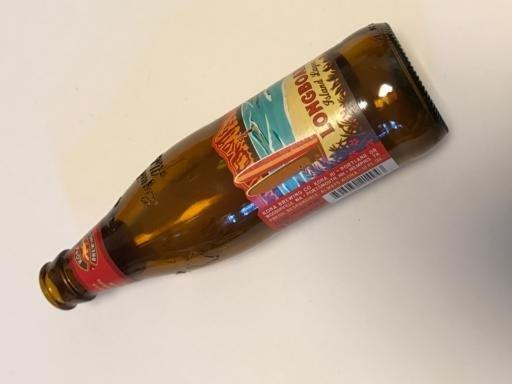botolkaca: (38, 24, 449, 310)
